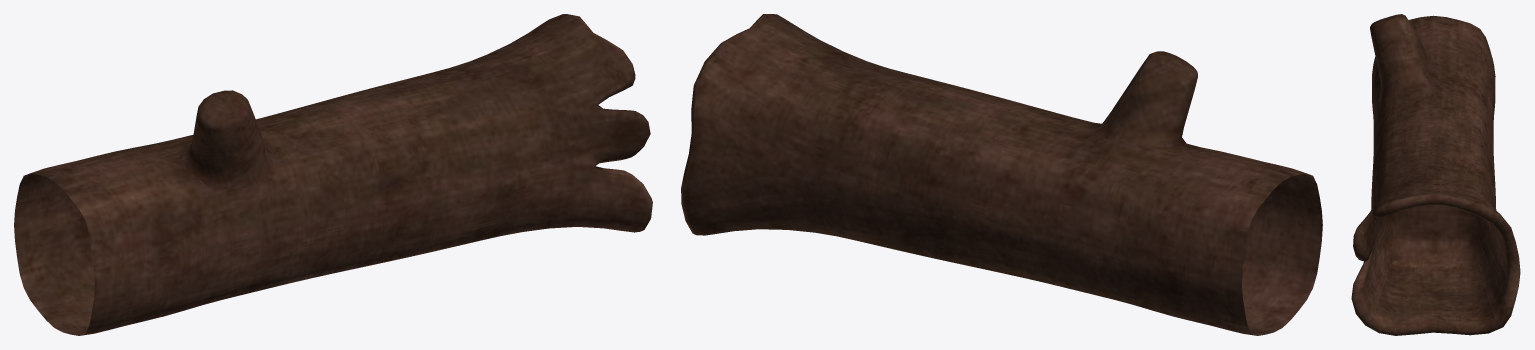
Rendered from tronco.glb.
The picture shows the model from 3 angles, left to right: view 1: azimuth 30°, elevation 25°; view 2: azimuth 150°, elevation 25°; view 3: azimuth 270°, elevation 25°; orthographic projection. The views are drawn at different scales.
Parts seen in each view (by area): view 1: Object_2; view 2: Object_2; view 3: Object_2.
Boxes of the visible parts, left/top/right/bottom form: Object_2: left=14, top=14, right=652, bottom=335; Object_2: left=681, top=14, right=1322, bottom=335; Object_2: left=1351, top=14, right=1520, bottom=335.
Size of the model in its own units: 7.65 by 3.08 by 2.71.
1 material, 1 textured.
